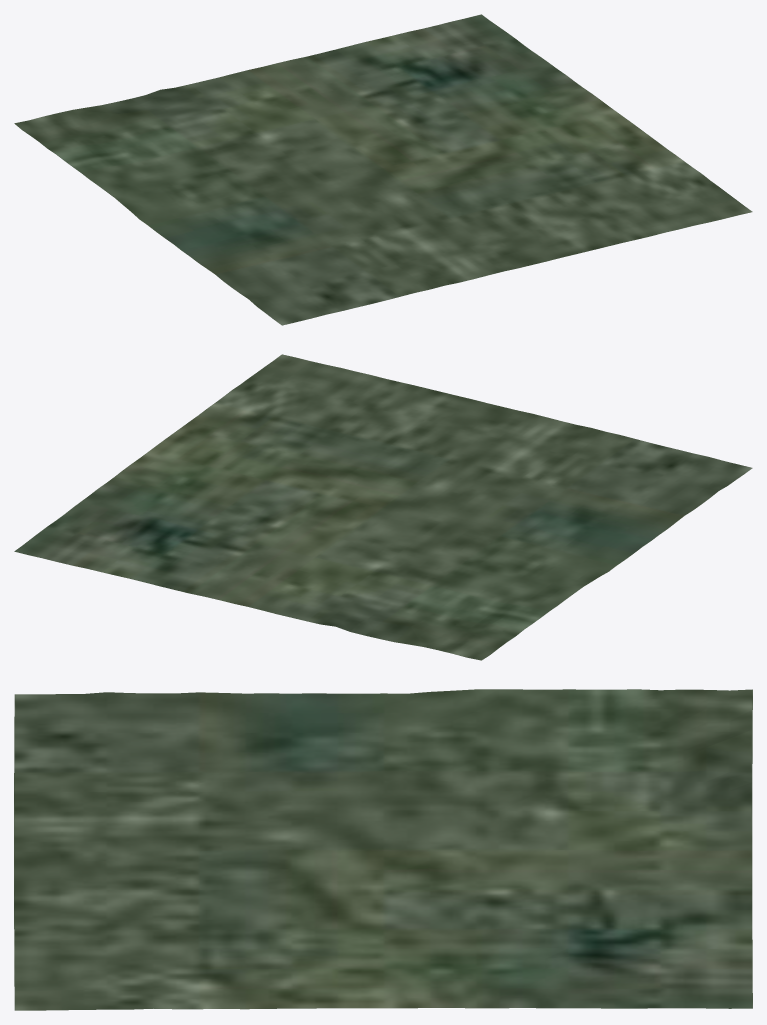
The picture shows the model from 3 angles, top to bottom: view 1: azimuth 30°, elevation 25°; view 2: azimuth 150°, elevation 25°; view 3: azimuth 270°, elevation 25°; orthographic projection. The views are drawn at different scales.
Bounding box in the file's own units: 62916 × 786 × 62478.
1 material, 1 textured.
